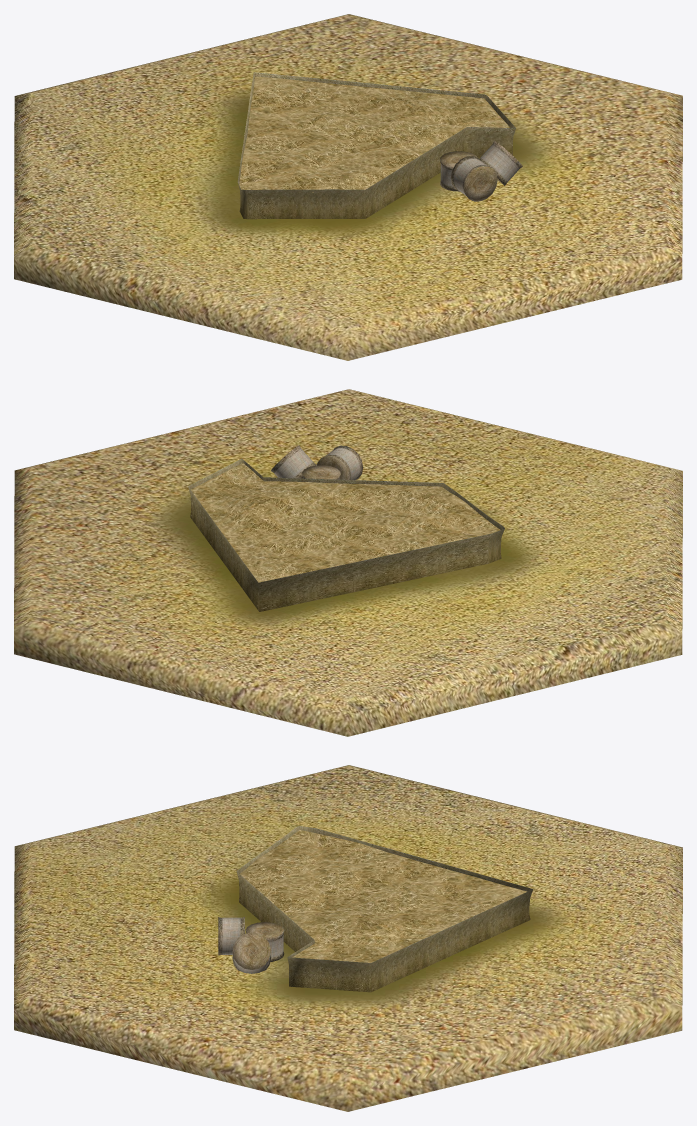
The model's file is yellowhex.FBX.
3 renders of one model, top to bottom at view 1: azimuth 30°, elevation 25°; view 2: azimuth 150°, elevation 25°; view 3: azimuth 270°, elevation 25°, orthographic.
Visible parts, largest first — view 1: Hexa, pole, balik, balik.002, balik.001; view 2: Hexa, pole, balik, balik.002; view 3: Hexa, pole, balik.002, balik, balik.001.
Boxes of the visible parts, bbox=[...] form: Hexa: bbox=[14, 14, 682, 360]; pole: bbox=[237, 72, 515, 219]; balik: bbox=[450, 156, 497, 201]; balik.002: bbox=[479, 141, 522, 185]; balik.001: bbox=[440, 151, 477, 191]; Hexa: bbox=[14, 389, 682, 736]; pole: bbox=[188, 458, 504, 611]; balik: bbox=[317, 445, 363, 479]; balik.002: bbox=[271, 445, 316, 478]; Hexa: bbox=[14, 765, 682, 1111]; pole: bbox=[236, 826, 533, 992]; balik.002: bbox=[232, 932, 270, 973]; balik: bbox=[218, 917, 244, 955]; balik.001: bbox=[245, 922, 284, 961].
Size of the model in its own units: 961 by 91.47 by 833.
3 materials, 3 textured.
